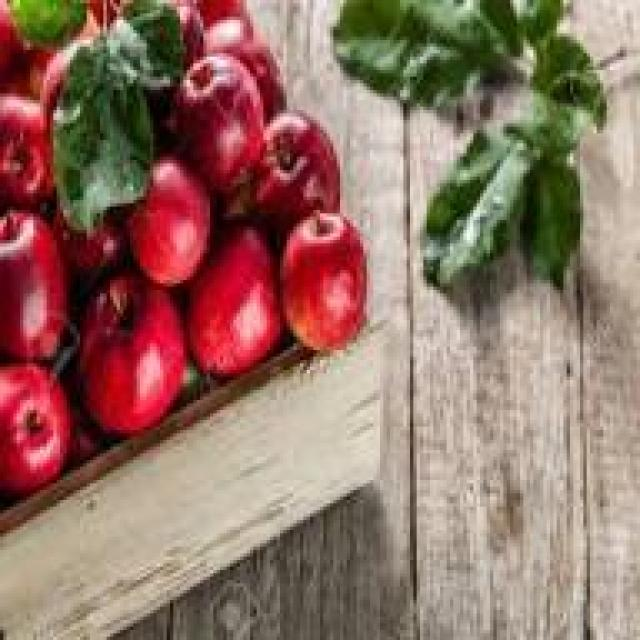apple: (276, 217, 376, 350), (90, 284, 177, 414), (190, 243, 280, 367), (177, 60, 260, 183), (253, 106, 337, 226), (137, 164, 220, 284), (3, 90, 60, 197)
